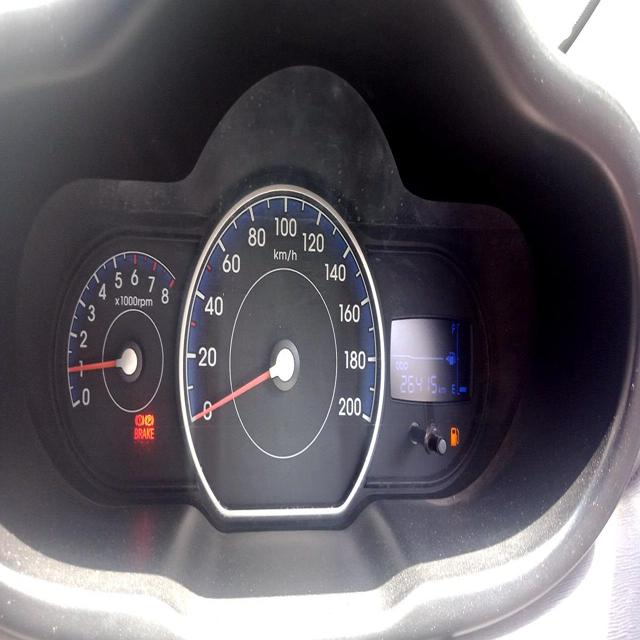odometer: (398, 369, 438, 400)
